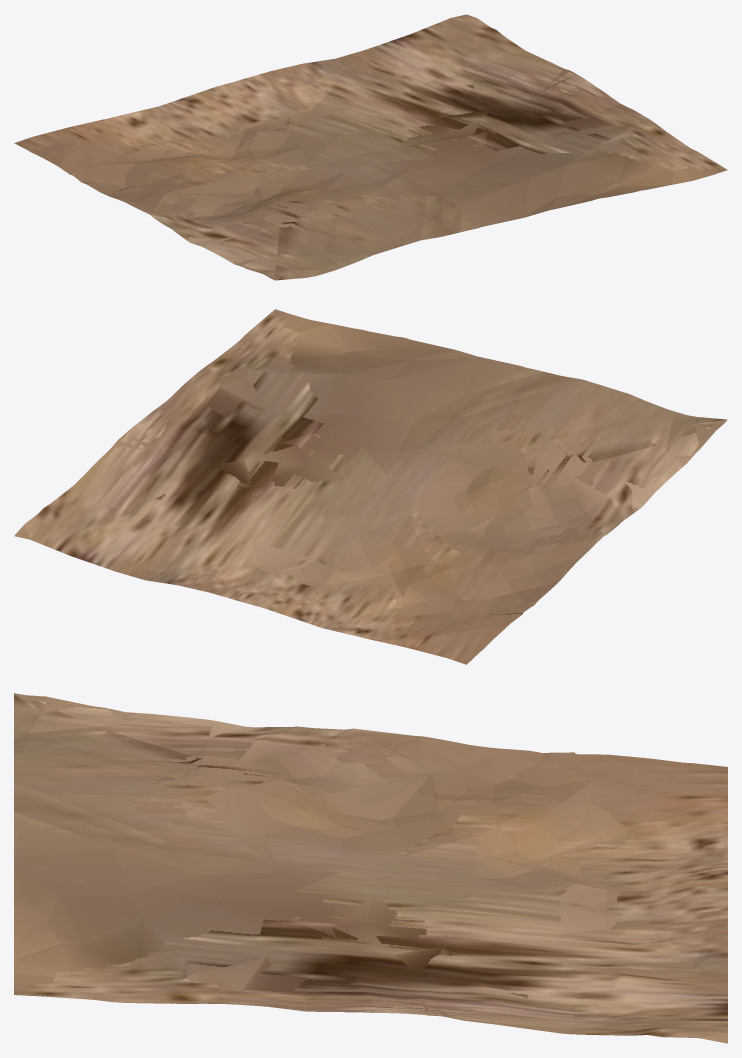
3 renders of one model, top to bottom at view 1: azimuth 30°, elevation 25°; view 2: azimuth 150°, elevation 25°; view 3: azimuth 270°, elevation 25°, orthographic. The views are drawn at different scales.
Size of the model in its own units: 1.04 by 0.1354 by 1.04.
Materials: 2 (2 with a texture image).
